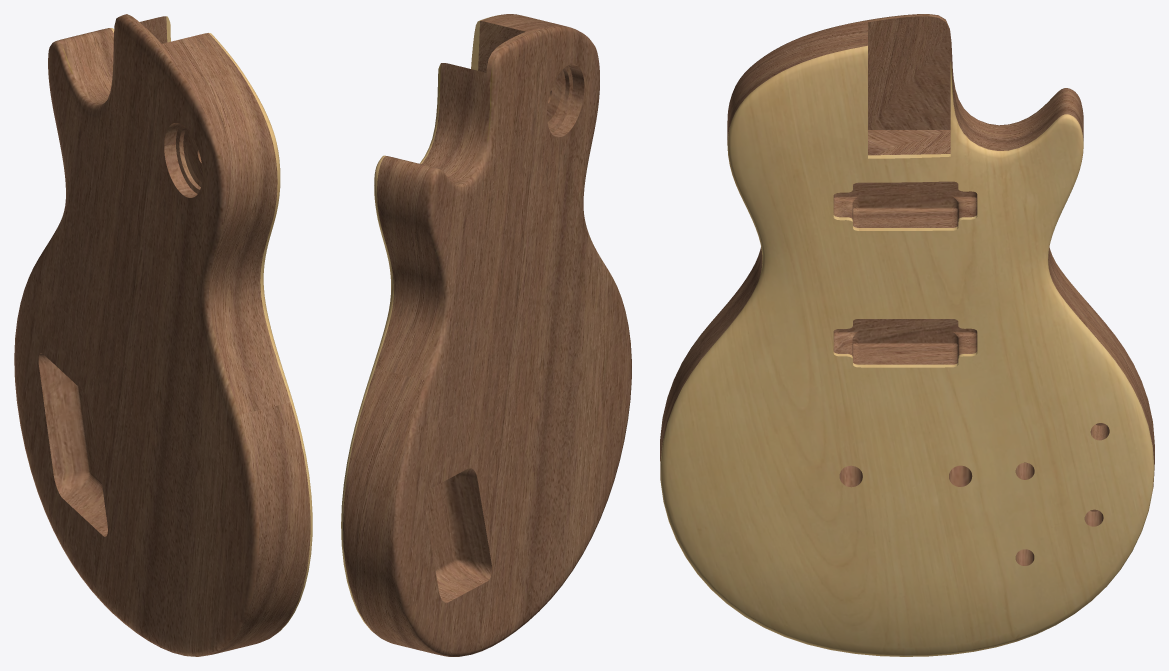
Rendered from gibson_lespaul_body.min.glb.
3 renders of one model, left to right at view 1: azimuth 30°, elevation 25°; view 2: azimuth 150°, elevation 25°; view 3: azimuth 270°, elevation 25°, orthographic. The views are drawn at different scales.
Size of the model in its own units: 0.2679 by 2.07 by 1.5.
Materials: 1 (1 with a texture image).
